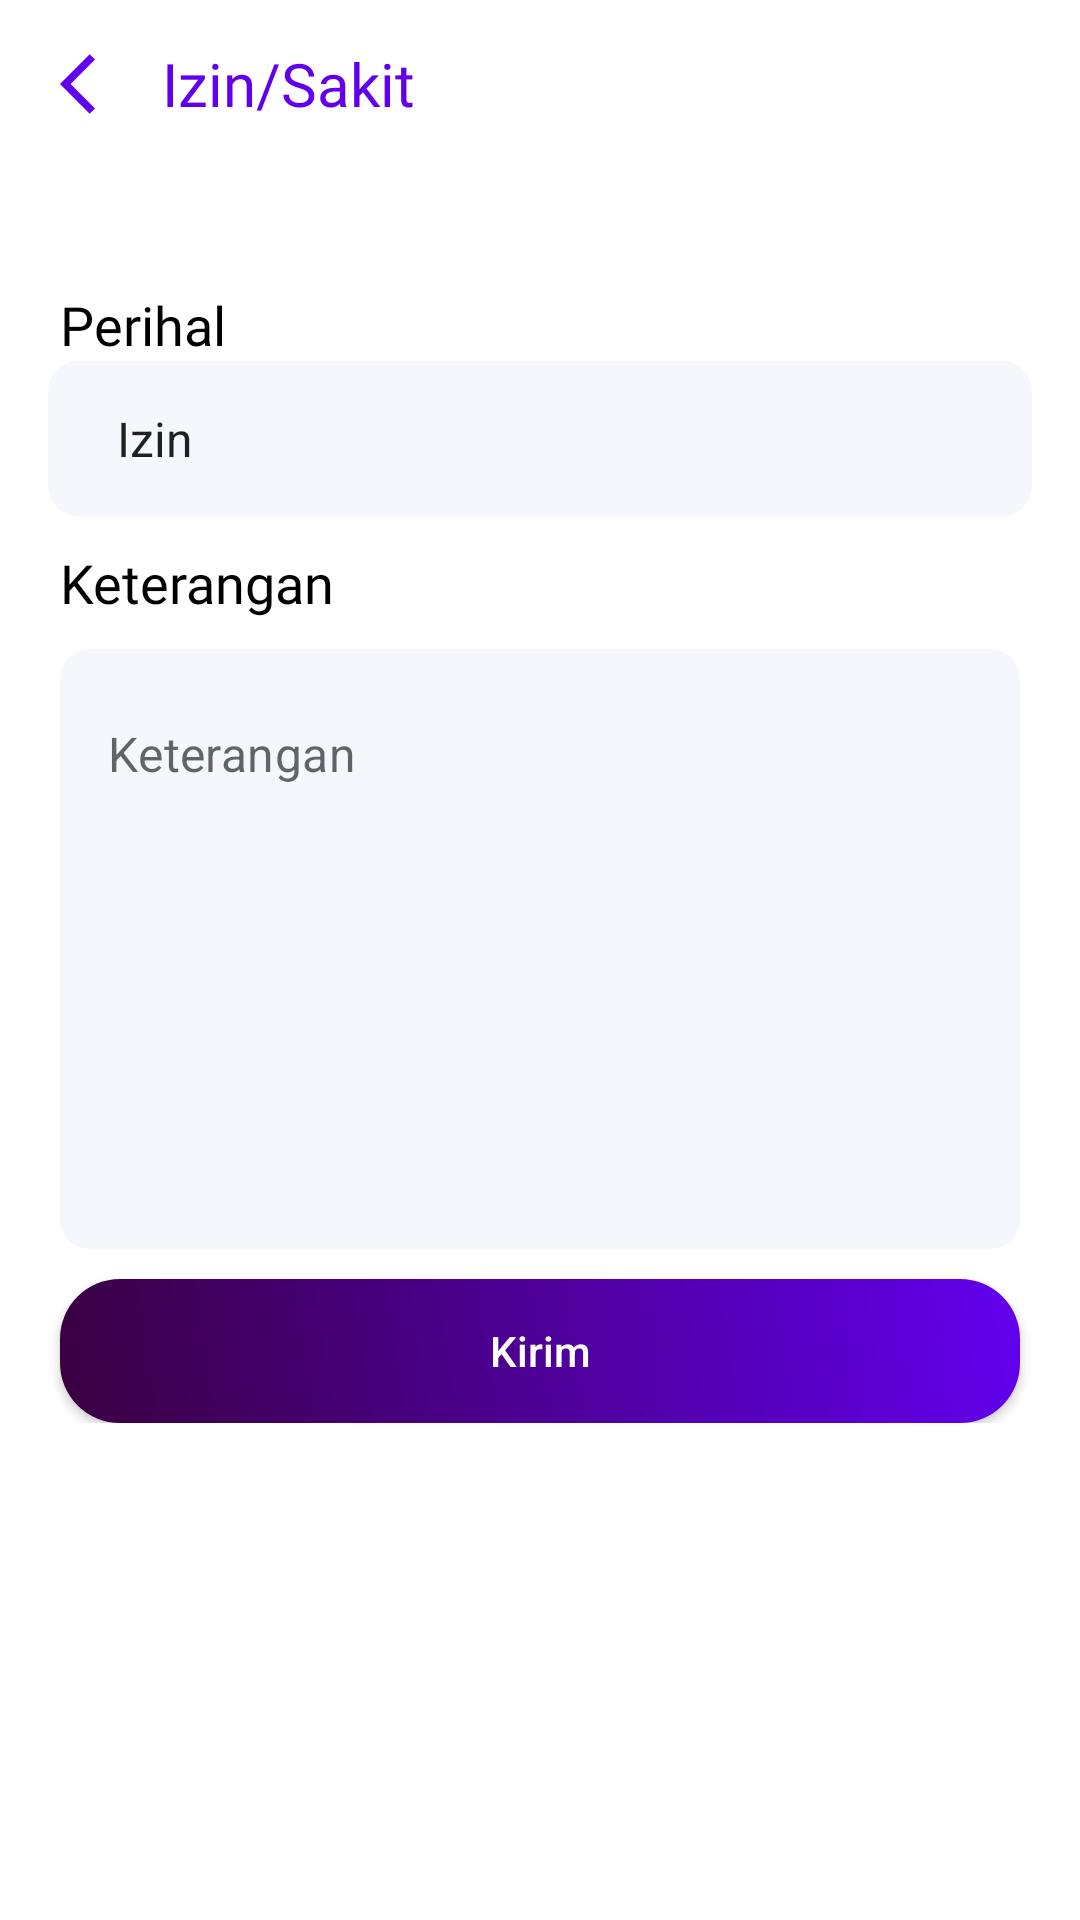

Icons on this 1080w x 1920h Android screen, each with the point to tap as [x,y]:
back: [77,84]
